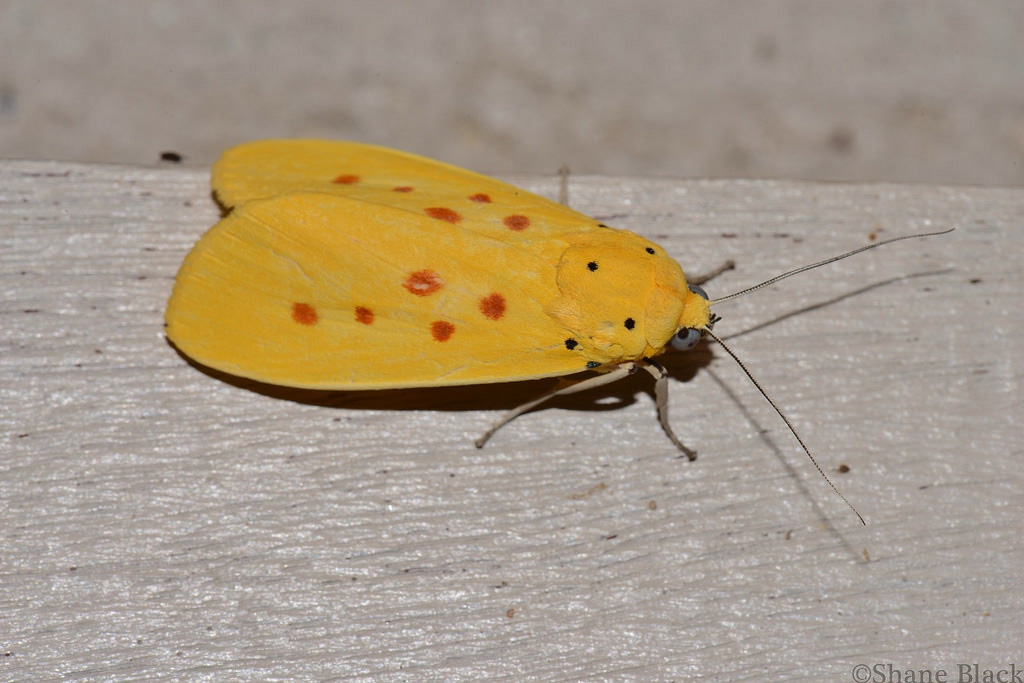Agape chloropyga: (156, 134, 964, 530)
moth: (158, 136, 966, 532)
